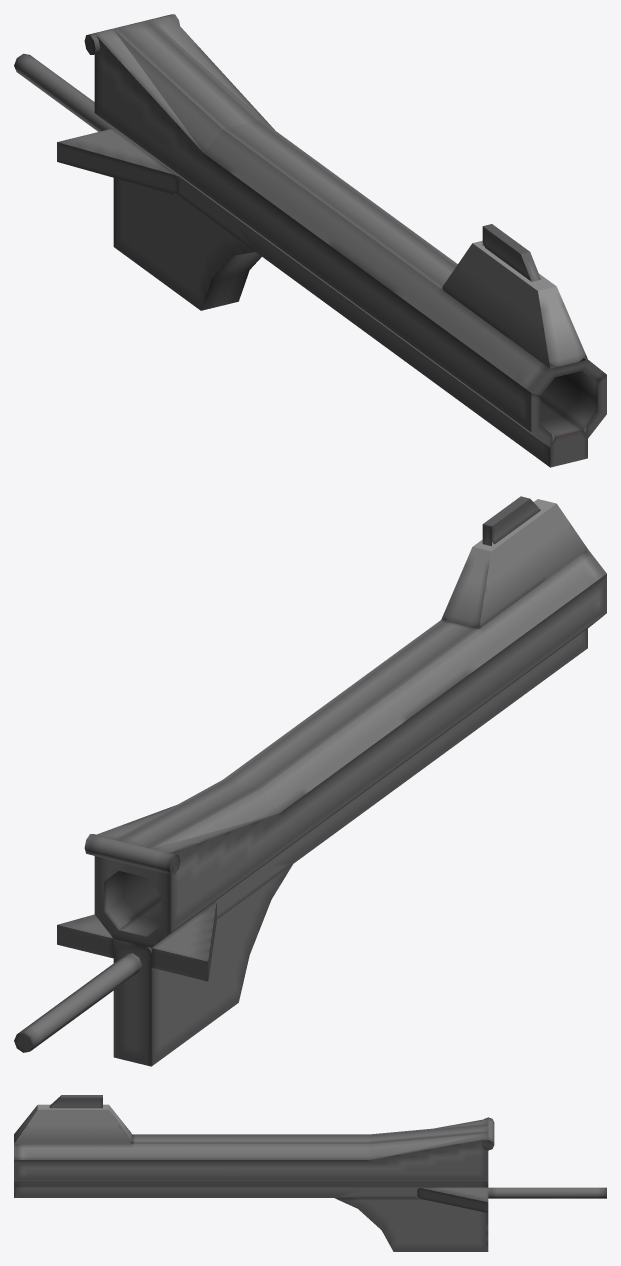
The model's file is revolver_barrel.obj.
3 renders of one model, top to bottom at view 1: azimuth 30°, elevation 25°; view 2: azimuth 150°, elevation 25°; view 3: azimuth 270°, elevation 25°, orthographic. The views are drawn at different scales.
Parts seen in each view (by area): view 1: Barrel; view 2: Barrel; view 3: Barrel.
Boxes of the visible parts, x1,y1,x2,y2 form: Barrel: (14,14,606,467); Barrel: (14,496,606,1066); Barrel: (14,1095,606,1251).
Bounding box in the file's own units: 2 × 3.5 × 12.5.
